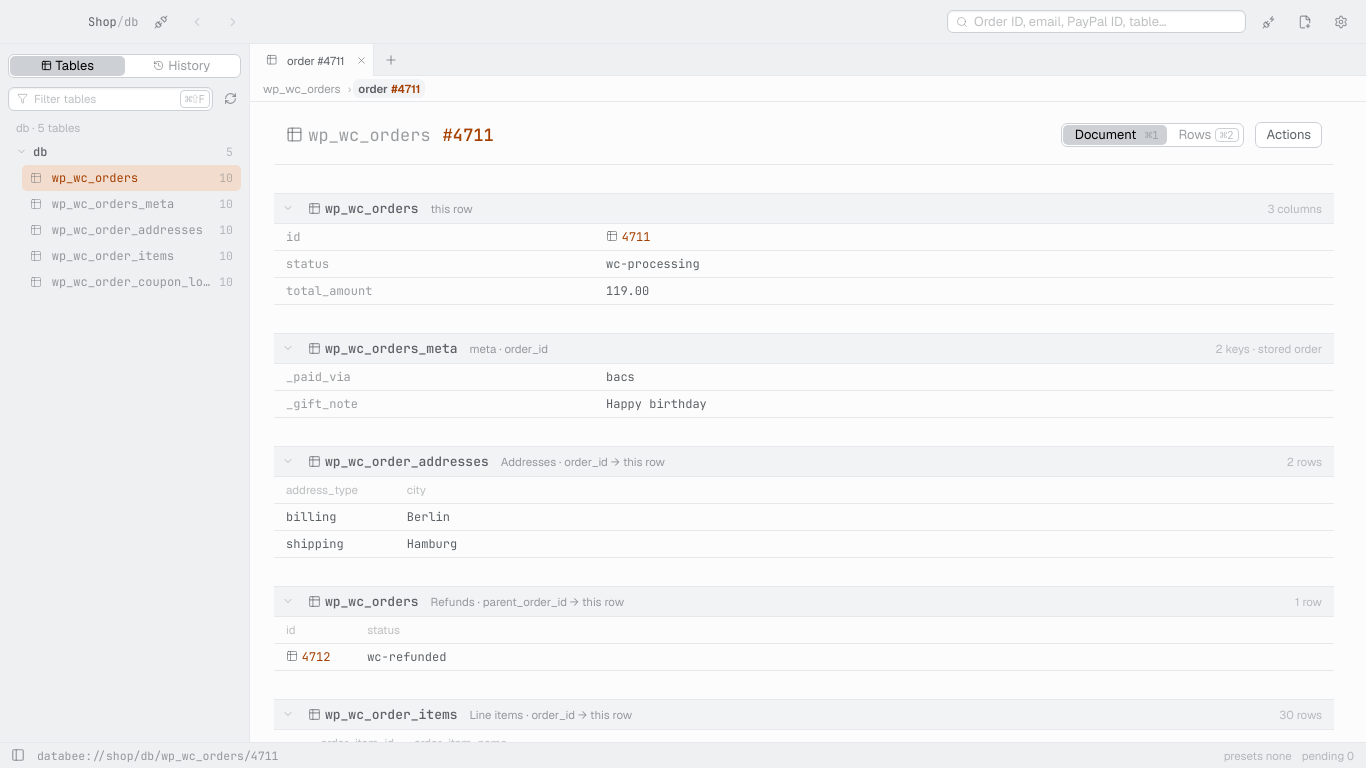
Scenario: collapsible object sections › Document view › hides a group's rows on Collapse and keeps its band with aria-expanded false
This screenshot has width=1366, height=768.
expect the element named "Databases" is shown: met, box [16, 144, 241, 290]
expect the element named "Object header" is shown: met, box [274, 102, 1334, 165]
Click the button named "Collapse wp_wc_orders_meta" at (288, 348), box [280, 340, 296, 356]
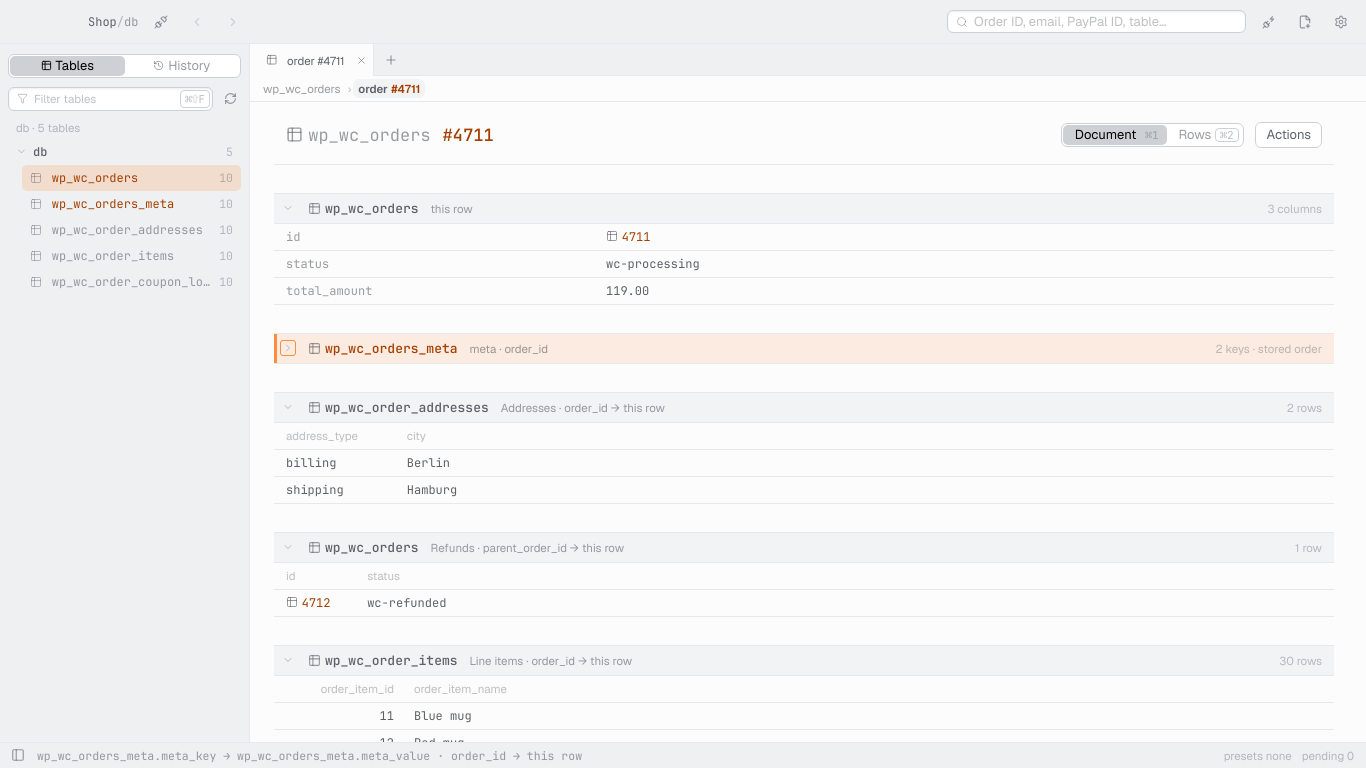
expect the text "2 keys · stored order" is shown: met, box [1216, 341, 1322, 356]
expect the text "bacs" is gone: met
expect the text "Happy birthday" is gone: met
